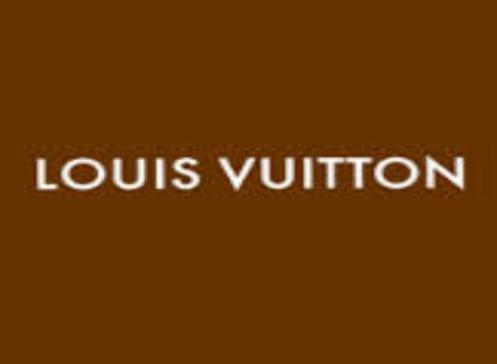LOUIS-VUITTON: (27, 149, 488, 201)
